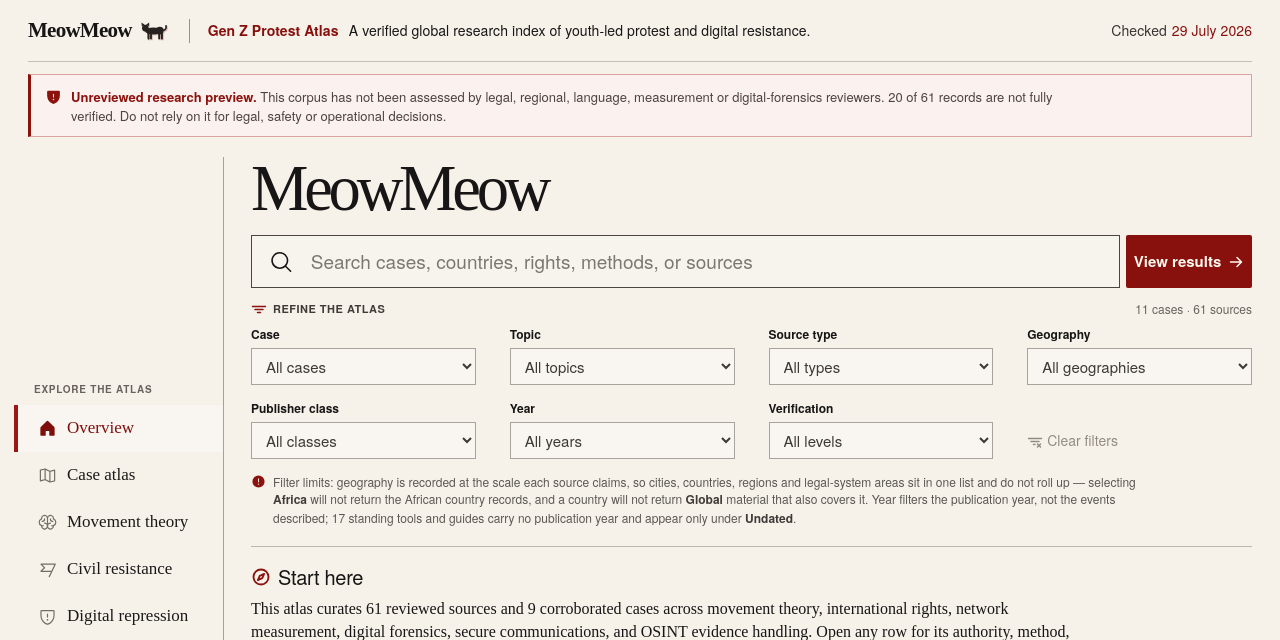
Test: atlas filtering › clear filters resets search, filters, and expansion together
This screenshot has width=1280, height=640.
Expected: the button "Clear filters" is disabled, [1027,422,1118,459]
Type "Kenya" into the search field labelled "Search cases, countries, rights, methods, or sources". click: (706, 262)
box: [311,247,1102,276]
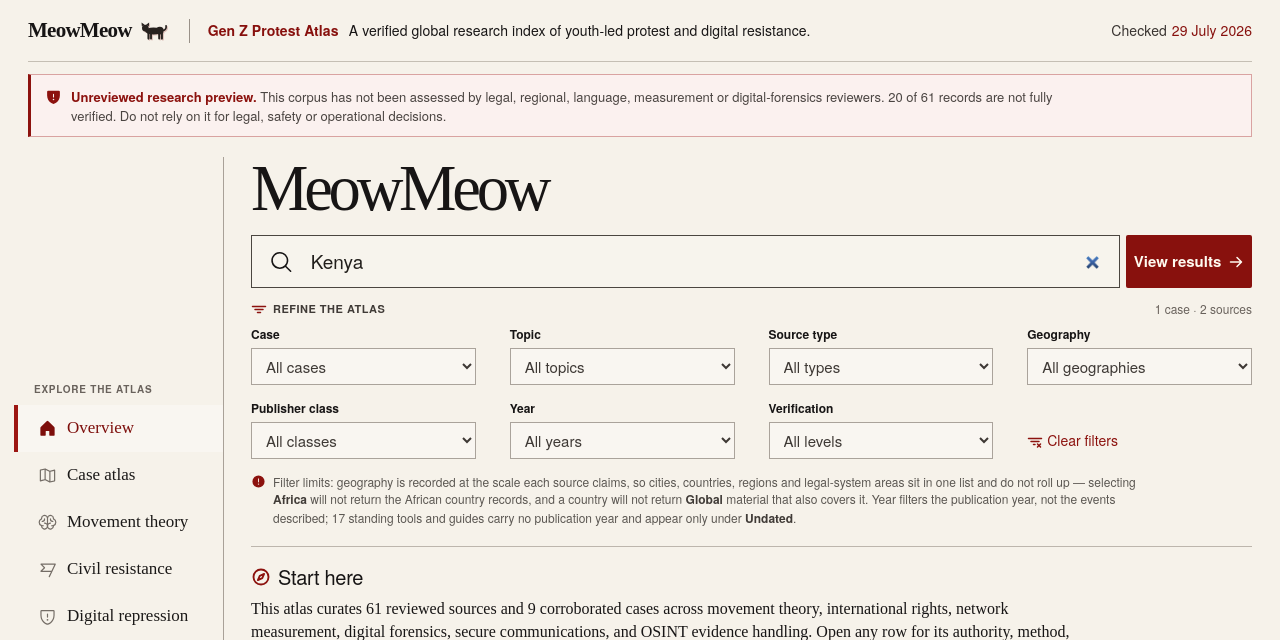
Select "Verified" in the dropdown labelled "Verification". click: (881, 440)
box: [768,422,993,459]
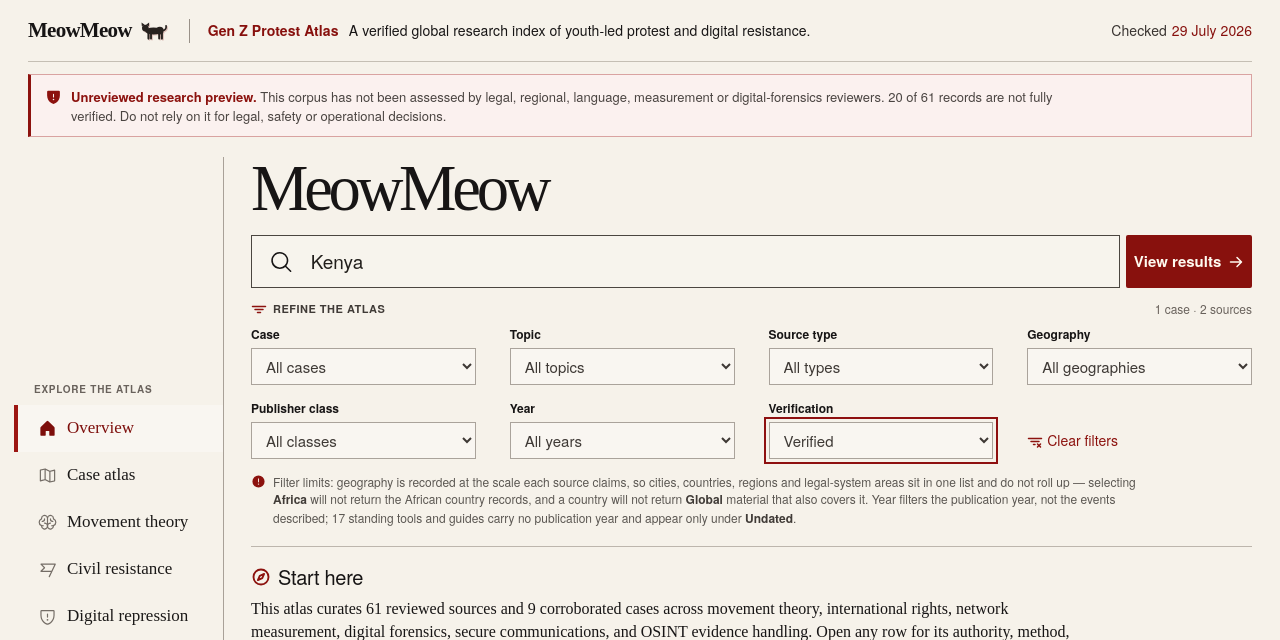
Expected: the button "Clear filters" is enabled
Click the button "Clear filters". click: (1073, 440)
box: [1027,422,1118,459]
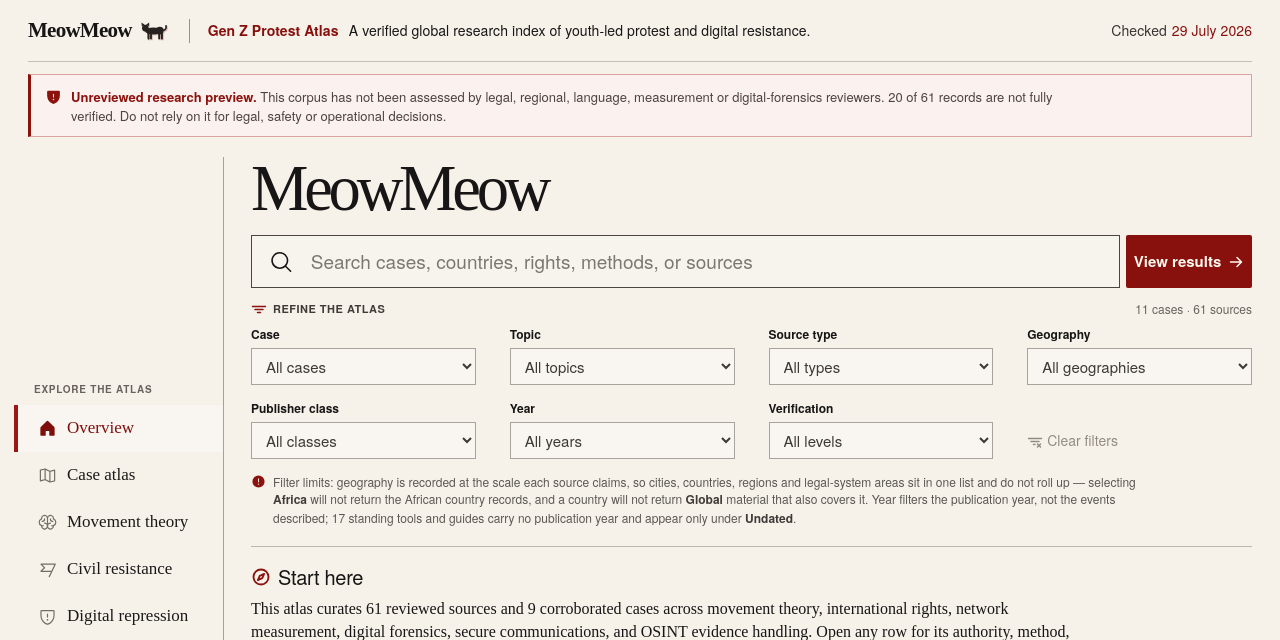
Expected: the search field labelled "Search cases, countries, rights, methods, or sources" is empty, [311,247,1102,276]
Expected: the button "Clear filters" is disabled, [1027,422,1118,459]
